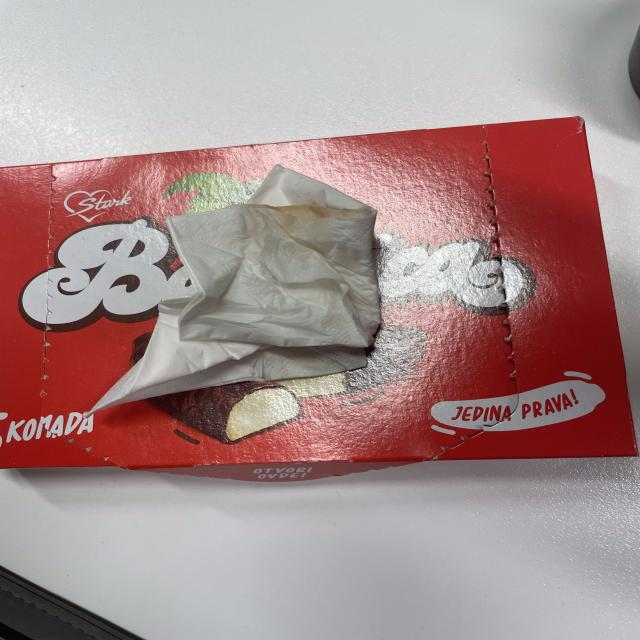kitchen paper: (74, 165, 383, 422)
